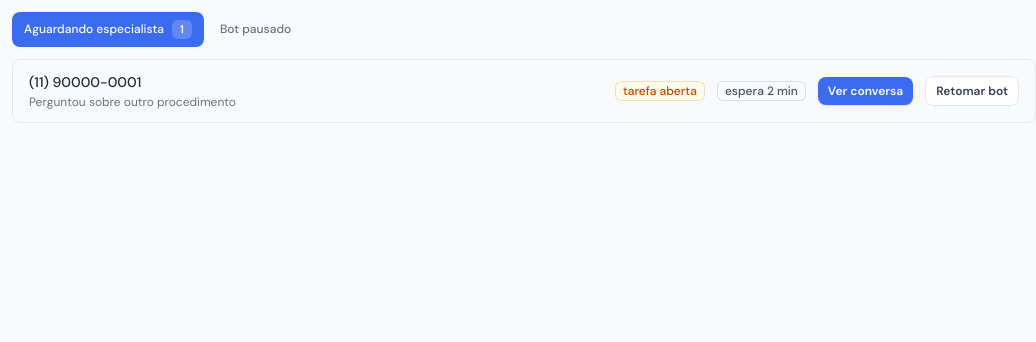
Test: pendência, tarefa e alerta (PRD 020 fase 3) › quem está na fila da especialista não aparece de novo em pausadas
The width and height of the screenshot is (1036, 342).
Click the button "Bot pausado": click(256, 29) x1=208 y1=13 x2=303 y2=45
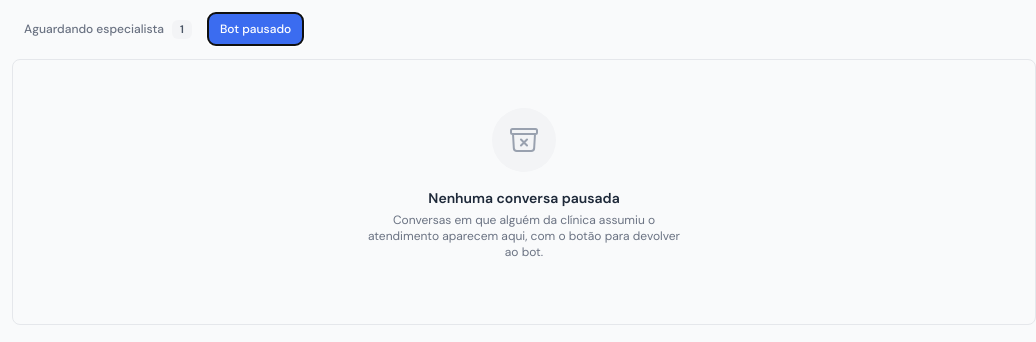
Expected: no list items are shown
